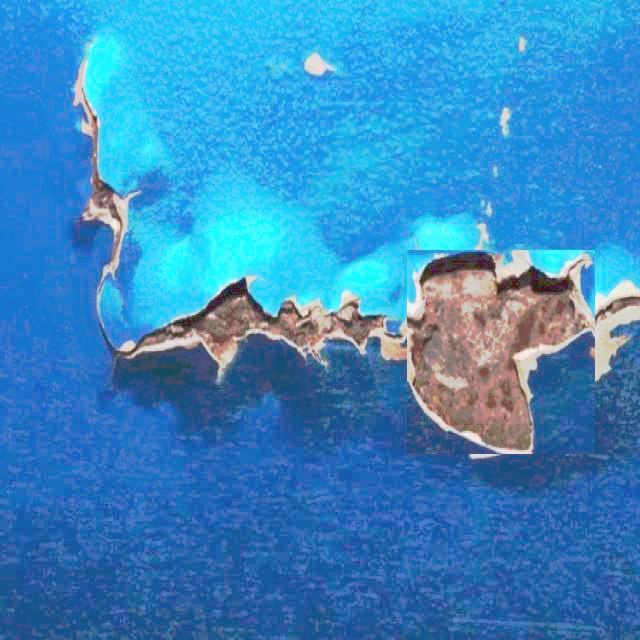Corrosion: (408, 252, 594, 454), (117, 276, 406, 384), (72, 62, 140, 274), (597, 282, 640, 380)
